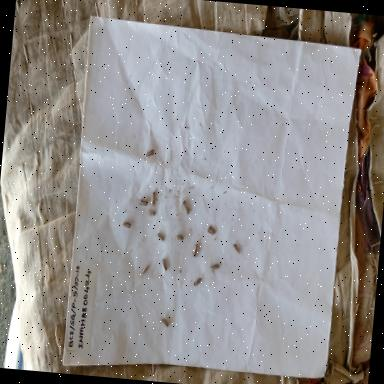pbw: (144, 144, 156, 160), (160, 255, 170, 274), (181, 198, 192, 215), (138, 195, 152, 208), (149, 188, 158, 208), (154, 231, 166, 244), (191, 241, 199, 259), (122, 220, 134, 232), (231, 242, 242, 255), (174, 233, 185, 246), (160, 316, 171, 328), (192, 276, 203, 288), (206, 224, 216, 237), (140, 264, 149, 277), (210, 261, 220, 272), (146, 208, 156, 218)
